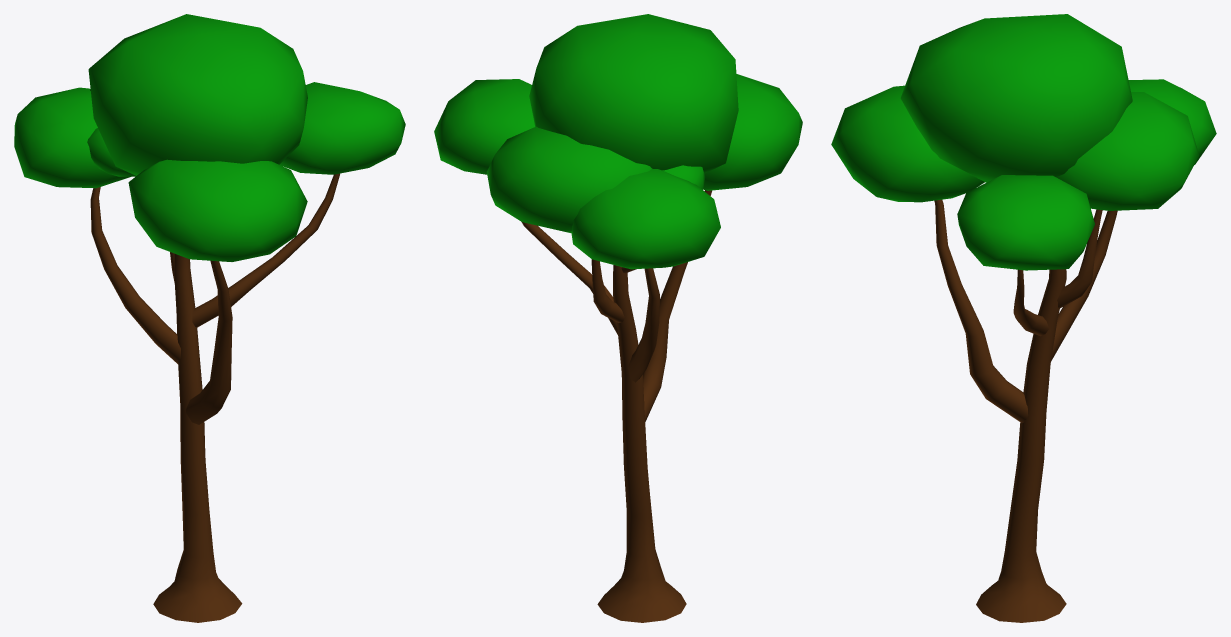
File: Tree_1.fbx
3 views of the same model, side by side, from view 1: azimuth 30°, elevation 25°; view 2: azimuth 150°, elevation 25°; view 3: azimuth 270°, elevation 25° (orthographic).
Parts seen in each view (by area): view 1: Tree_A; view 2: Tree_A; view 3: Tree_A.
Part boxes in pixels (x1,y1,x2,y2): Tree_A: [14, 14, 405, 622]; Tree_A: [434, 14, 802, 622]; Tree_A: [831, 14, 1216, 622].
Bounding box in the file's own units: 57.1 × 58.35 × 96.52.
